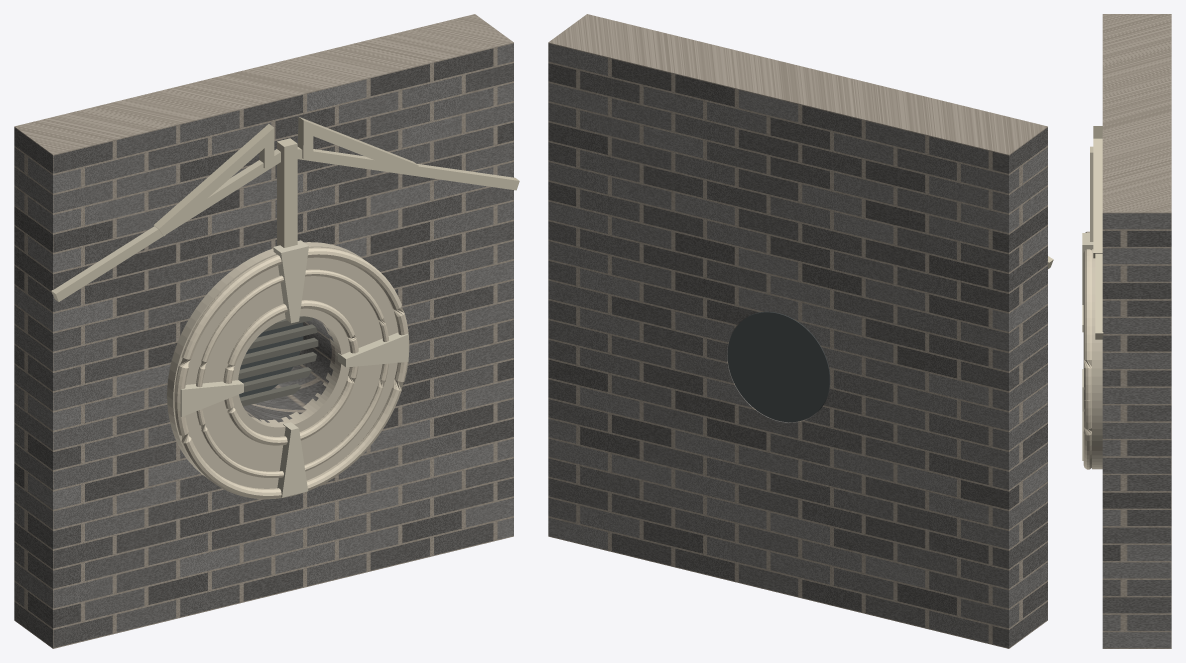
The model's file is swiss-consulate-louvred-oculus-near.glb.
The picture shows the model from 3 angles, left to right: view 1: azimuth 30°, elevation 25°; view 2: azimuth 150°, elevation 25°; view 3: azimuth 270°, elevation 25°; orthographic projection. The views are drawn at different scales.
Parts seen in each view (by area): view 1: 瑞士国总领事馆旧址阁楼百叶圆窗与石饰圈; view 2: 瑞士国总领事馆旧址阁楼百叶圆窗与石饰圈; view 3: 瑞士国总领事馆旧址阁楼百叶圆窗与石饰圈.
Part boxes in pixels (x1,y1,x2,y2): 瑞士国总领事馆旧址阁楼百叶圆窗与石饰圈: [14, 14, 519, 648]; 瑞士国总领事馆旧址阁楼百叶圆窗与石饰圈: [548, 14, 1053, 648]; 瑞士国总领事馆旧址阁楼百叶圆窗与石饰圈: [1082, 14, 1171, 648].
Bounding box in the file's own units: 2.48 × 2.52 × 0.467.
7 materials, 1 textured.
